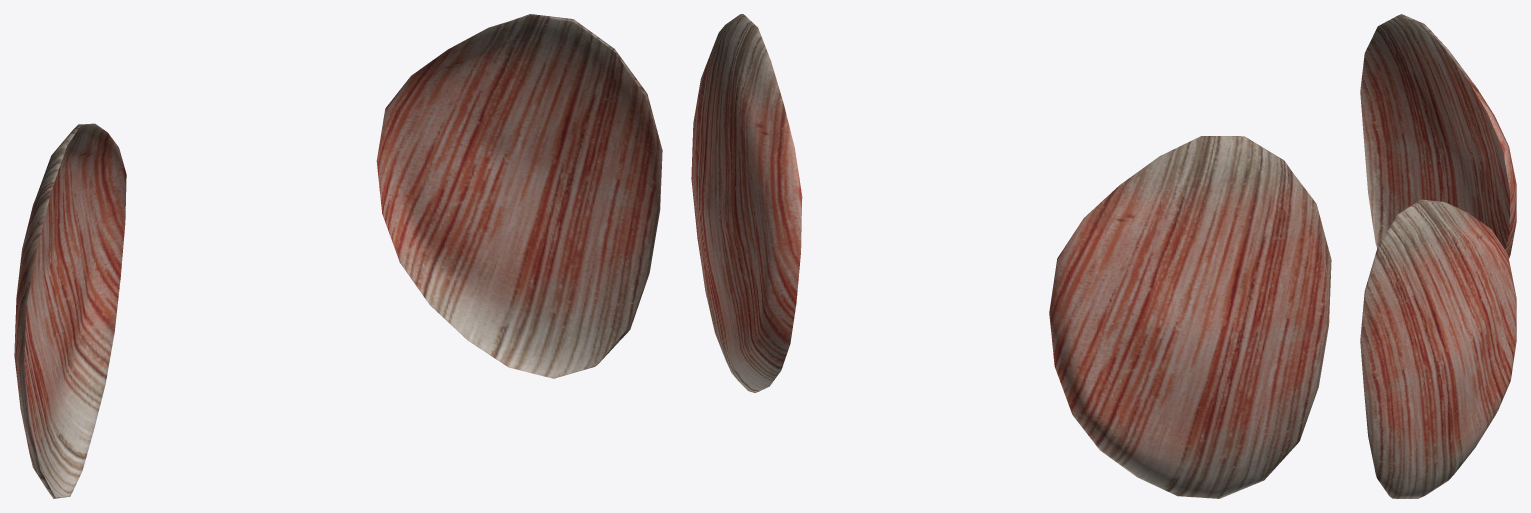
The model's file is Occipital.obj.
The picture shows the model from 3 angles, left to right: view 1: azimuth 30°, elevation 25°; view 2: azimuth 150°, elevation 25°; view 3: azimuth 270°, elevation 25°; orthographic projection. The views are drawn at different scales.
Visible parts, largest first — view 1: Musculo_Cabeza_Occipital; view 2: Musculo_Cabeza_Occipital; view 3: Musculo_Cabeza_Occipital.
Boxes of the visible parts, bbox=[...] form: Musculo_Cabeza_Occipital: bbox=[14, 14, 662, 498]; Musculo_Cabeza_Occipital: bbox=[691, 14, 1331, 498]; Musculo_Cabeza_Occipital: bbox=[1360, 14, 1516, 498].
Size of the model in its own units: 0.4963 by 0.2709 by 0.1311.
1 material, 1 textured.
